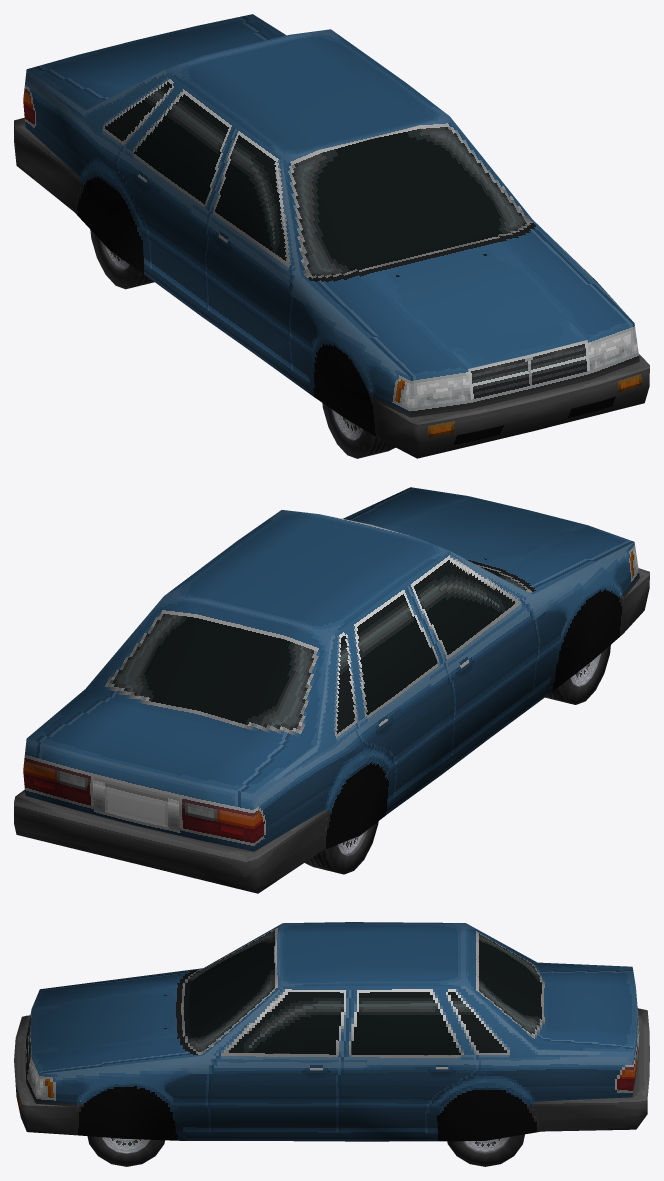
The model's file is Car5.glb.
The picture shows the model from 3 angles, top to bottom: view 1: azimuth 30°, elevation 25°; view 2: azimuth 150°, elevation 25°; view 3: azimuth 270°, elevation 25°; orthographic projection. The views are drawn at different scales.
Parts seen in each view (by area): view 1: Body, Wheel_FR, Wheels_RR; view 2: Body, Wheels_RR, Wheel_FR; view 3: Body, Wheels_FL, Wheels_RL.
Boxes of the visible parts, <box> form: Body: <box>14,14,649,458</box>; Wheel_FR: <box>322,403,395,458</box>; Wheels_RR: <box>90,230,154,289</box>; Body: <box>14,487,649,893</box>; Wheels_RR: <box>304,821,378,874</box>; Wheel_FR: <box>545,645,610,704</box>; Body: <box>14,922,649,1141</box>; Wheels_FL: <box>87,1136,164,1166</box>; Wheels_RL: <box>447,1134,524,1166</box>.
Size of the model in its own units: 1.02 by 0.8487 by 2.85.
Materials: 1 (1 with a texture image).
